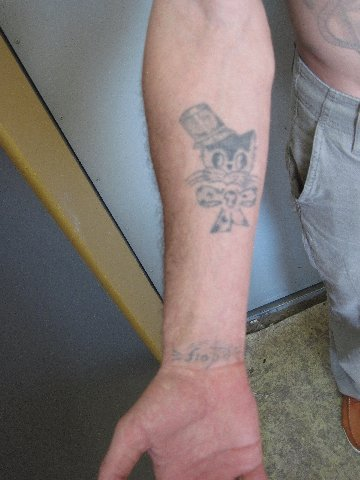tatu3_bukva: (171, 342, 244, 369)
tatu8_kot: (174, 100, 270, 244)
